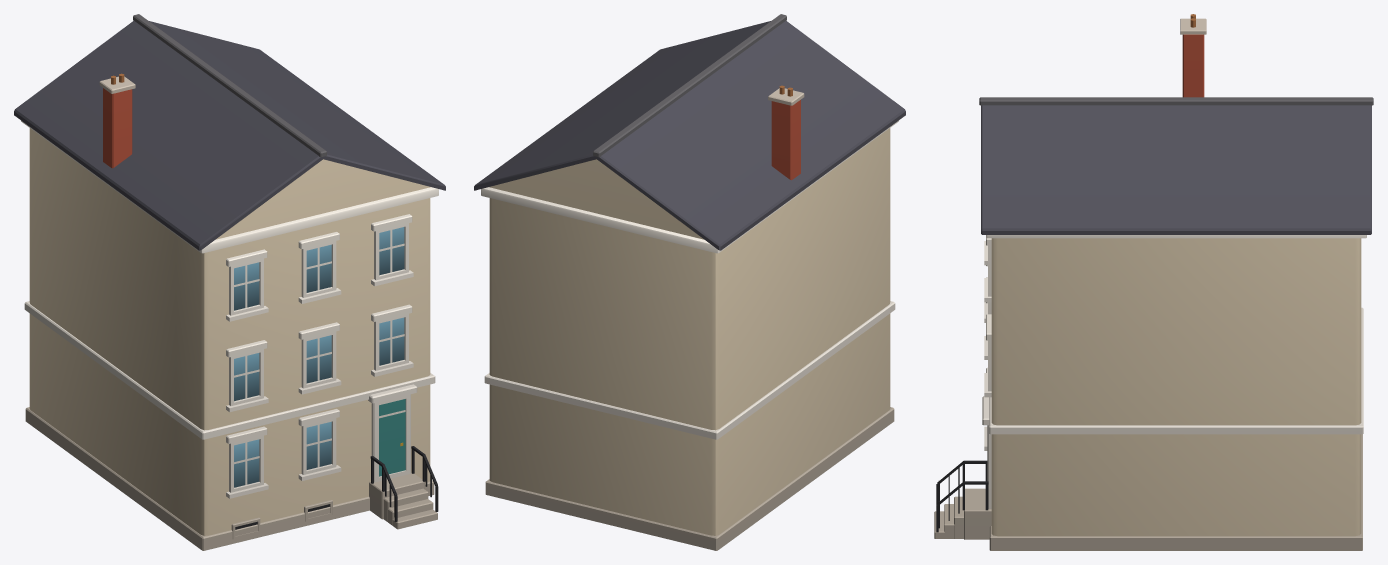
File: lane_e5.glb
3 renders of one model, left to right at view 1: azimuth 30°, elevation 25°; view 2: azimuth 150°, elevation 25°; view 3: azimuth 270°, elevation 25°, orthographic. The views are drawn at different scales.
Visible parts, largest first — view 1: lane_e5; view 2: lane_e5; view 3: lane_e5.
Boxes of the visible parts, bbox=[...] form: lane_e5: bbox=[14, 14, 445, 550]; lane_e5: bbox=[474, 14, 905, 550]; lane_e5: bbox=[934, 14, 1373, 550].
Size of the model in its own units: 9.7 by 15.07 by 14.26.
1 material, 1 textured.
